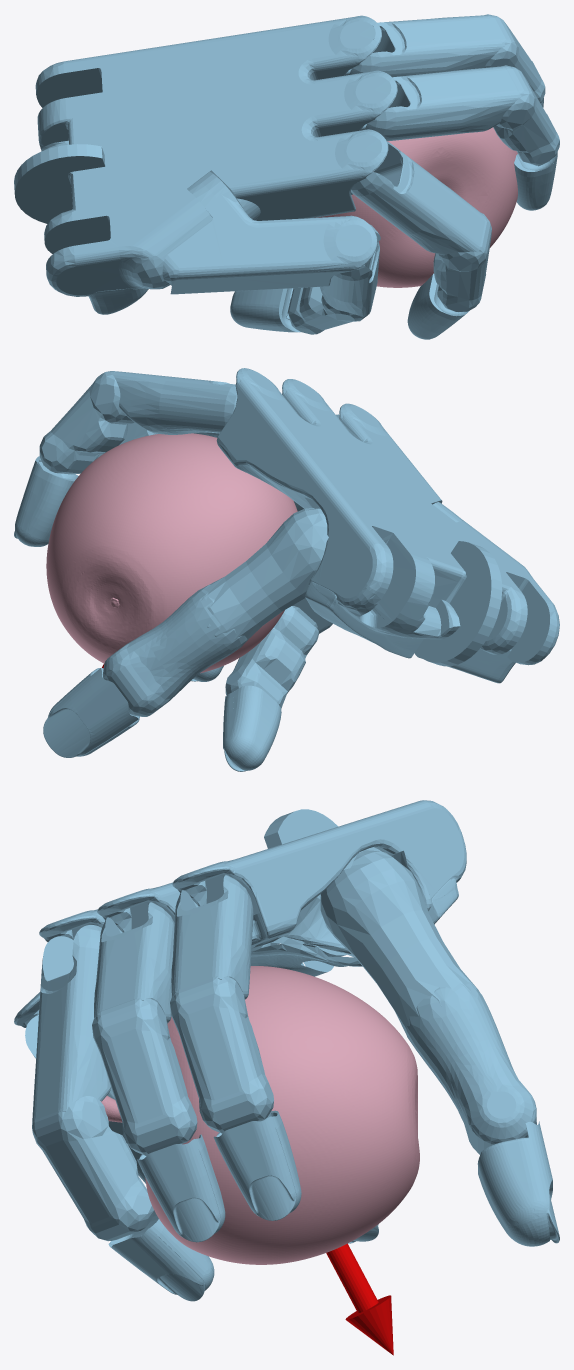
The picture shows the model from 3 angles, top to bottom: view 1: azimuth 30°, elevation 25°; view 2: azimuth 150°, elevation 25°; view 3: azimuth 270°, elevation 25°; orthographic projection. The views are drawn at different scales.
Visible parts, largest first — view 1: world, apple.stl; view 2: world, apple.stl; view 3: world, apple.stl.
Part boxes in pixels (left/top/right/bottom): world: left=14, top=14, right=559, bottom=339; apple.stl: left=314, top=127, right=517, bottom=287; world: left=14, top=368, right=559, bottom=771; apple.stl: left=46, top=433, right=297, bottom=673; world: left=14, top=800, right=559, bottom=1355; apple.stl: left=100, top=966, right=419, bottom=1264.
Size of the model in its own units: 0.1852 by 0.1211 by 0.1394.
